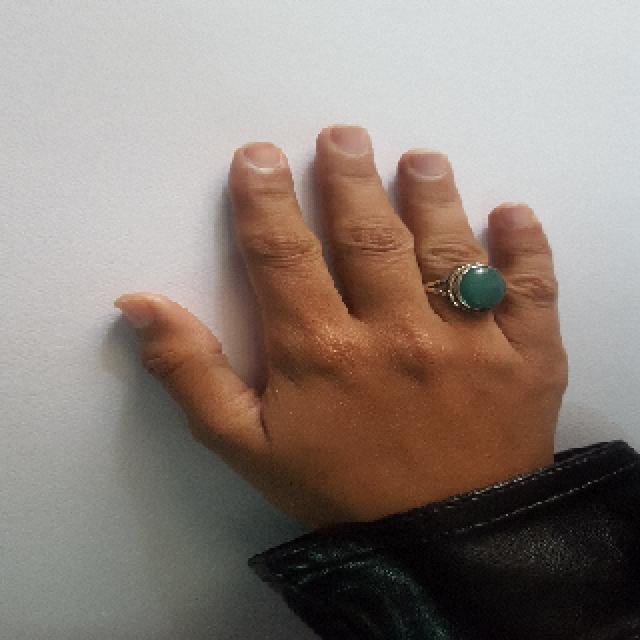Nail: (115, 297, 155, 329), (330, 126, 370, 154), (409, 151, 450, 176), (244, 143, 283, 168), (501, 205, 531, 231)
